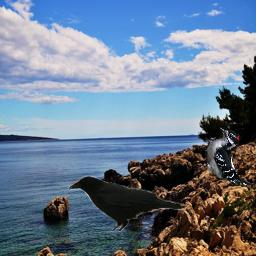Crow: (65, 173, 185, 232)
Woodpecker: (205, 127, 254, 185)
